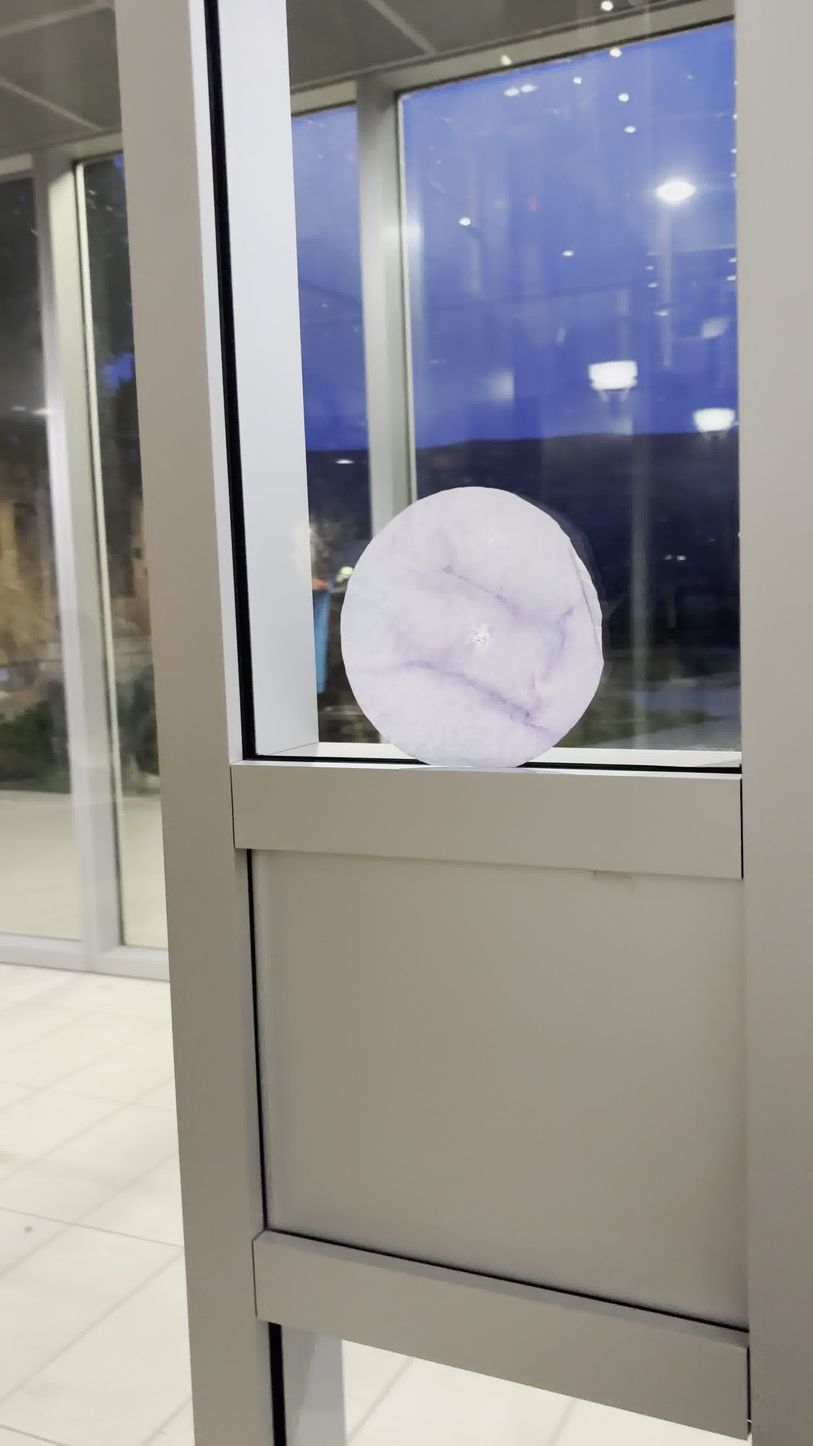Target: (340, 487, 605, 768)
